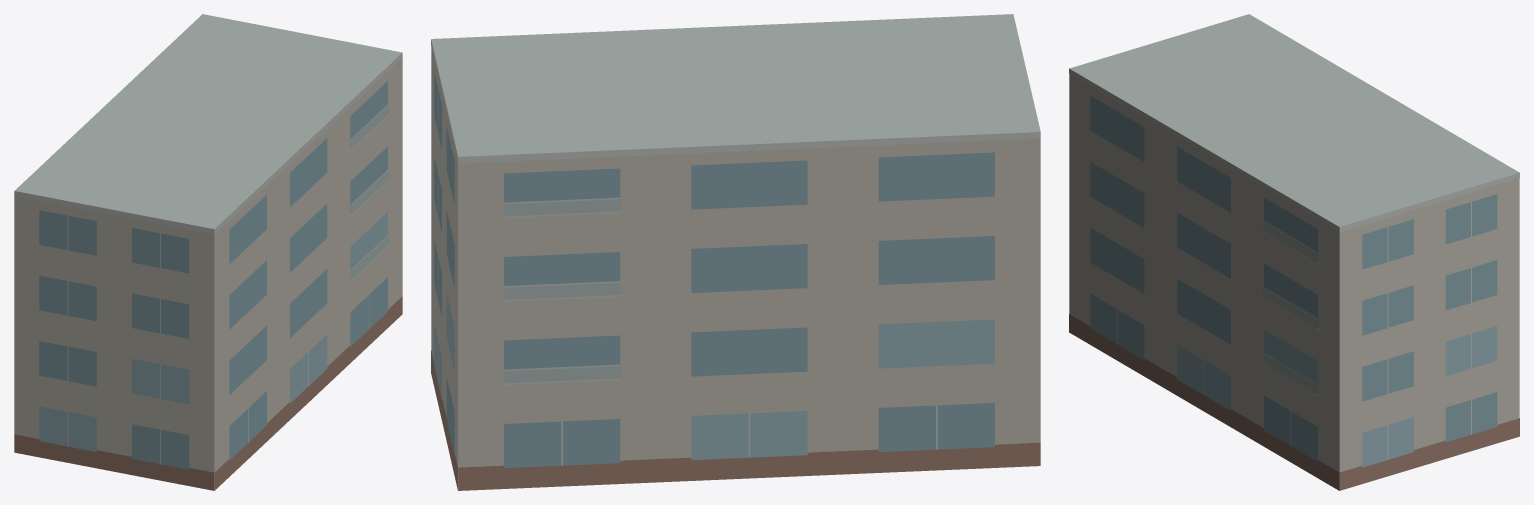
File: survey-upis-32805092.glb
The picture shows the model from 3 angles, left to right: view 1: azimuth 30°, elevation 25°; view 2: azimuth 150°, elevation 25°; view 3: azimuth 270°, elevation 25°; orthographic projection. The views are drawn at different scales.
Parts seen in each view (by area): view 1: survey-upis-32805092.tmp; view 2: survey-upis-32805092.tmp; view 3: survey-upis-32805092.tmp.
Boxes of the visible parts, bbox=[...] form: survey-upis-32805092.tmp: bbox=[14, 14, 402, 490]; survey-upis-32805092.tmp: bbox=[431, 14, 1040, 490]; survey-upis-32805092.tmp: bbox=[1069, 14, 1519, 490].
Size of the model in its own units: 21.39 by 12.35 by 19.13.
